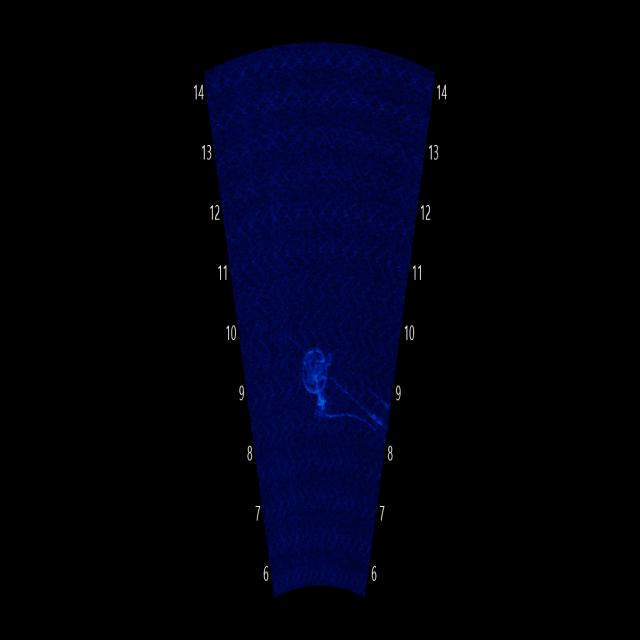circle: (297, 325, 338, 407)
